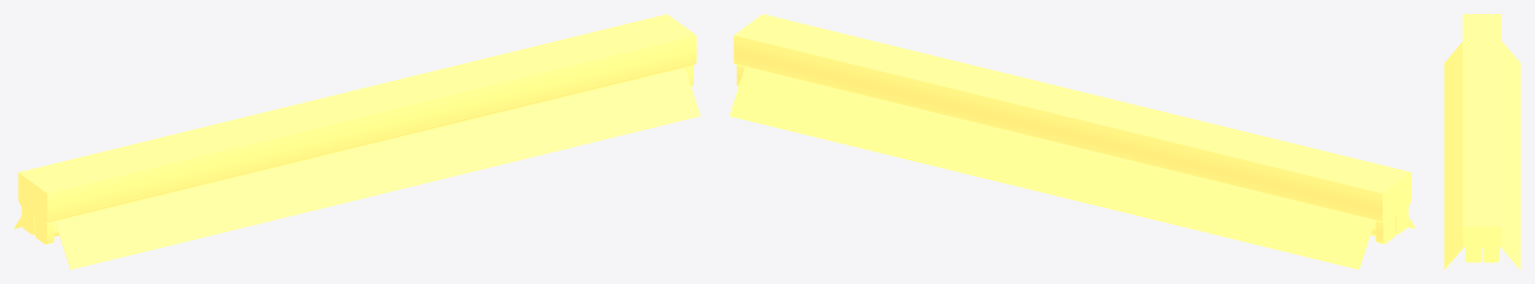
File: SM_Light_Tube_02.FBX
The picture shows the model from 3 angles, left to right: view 1: azimuth 30°, elevation 25°; view 2: azimuth 150°, elevation 25°; view 3: azimuth 270°, elevation 25°; orthographic projection. The views are drawn at different scales.
Parts seen in each view (by area): view 1: SM_Light_Tube_02; view 2: SM_Light_Tube_02; view 3: SM_Light_Tube_02.
Part boxes in pixels (x1,y1,x2,y2): SM_Light_Tube_02: (14,14,700,269); SM_Light_Tube_02: (729,14,1415,269); SM_Light_Tube_02: (1444,14,1520,269).
Bounding box in the file's own units: 125 × 19.02 × 12.71.
